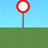sign: (16, 0, 30, 32)
